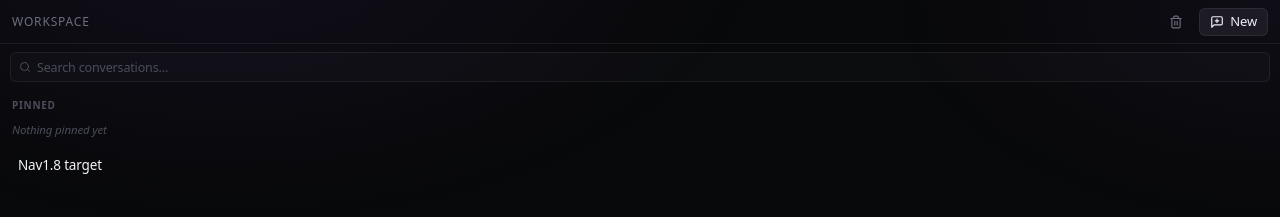
Test: HistoryRail search › shows 'No conversations match' when nothing matches the query
This screenshot has width=1280, height=217.
In the field with placeholder "Search conversations…": {"x": 649, "y": 67} [37,53,1261,81], type "zzznomatch"
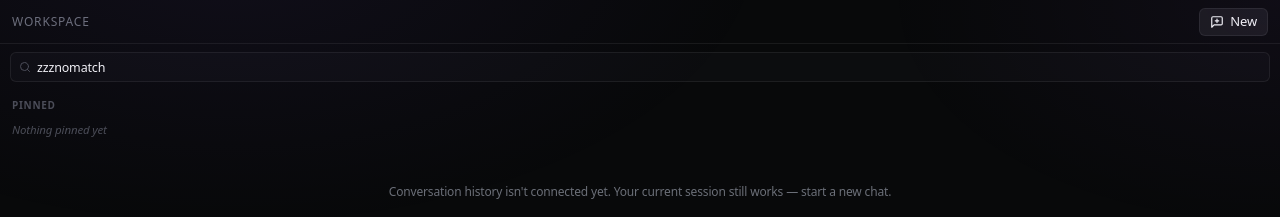
Now the text "No conversations match." is shown, box [389,183,891,200]
